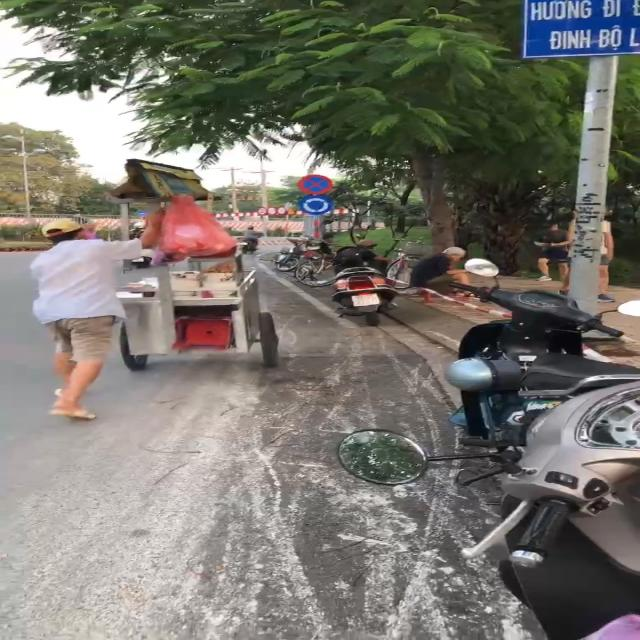Bien bao cam dung xe va do xe: (294, 172, 335, 194)
Bien bao noi giao nhau chay theo vong xuyen: (295, 194, 336, 216)
